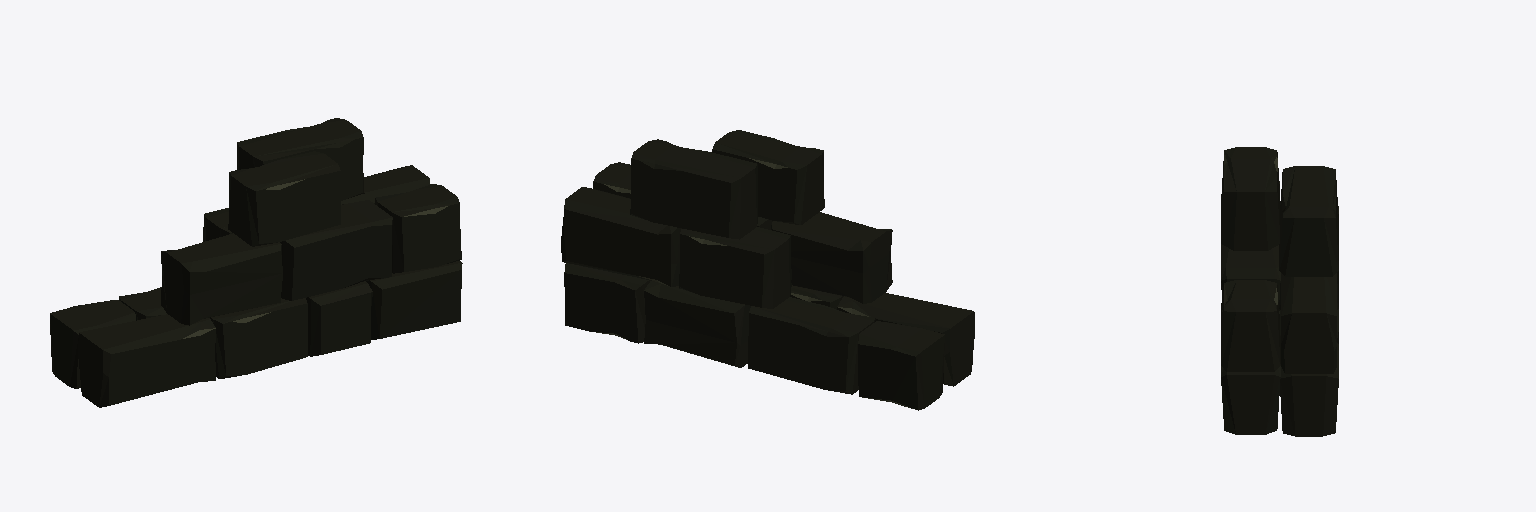
The model's file is Wall_Double_Broken.obj.
3 views of the same model, side by side, from view 1: azimuth 30°, elevation 25°; view 2: azimuth 150°, elevation 25°; view 3: azimuth 270°, elevation 25° (orthographic).
Visible parts, largest first — view 1: Wall_Double_Broken; view 2: Wall_Double_Broken; view 3: Wall_Double_Broken.
Part boxes in pixels (left/top/right/bottom): Wall_Double_Broken: left=50, top=118, right=462, bottom=407; Wall_Double_Broken: left=561, top=130, right=974, bottom=410; Wall_Double_Broken: left=1221, top=147, right=1338, bottom=436.
Size of the model in its own units: 1.99 by 0.9868 by 0.5656.